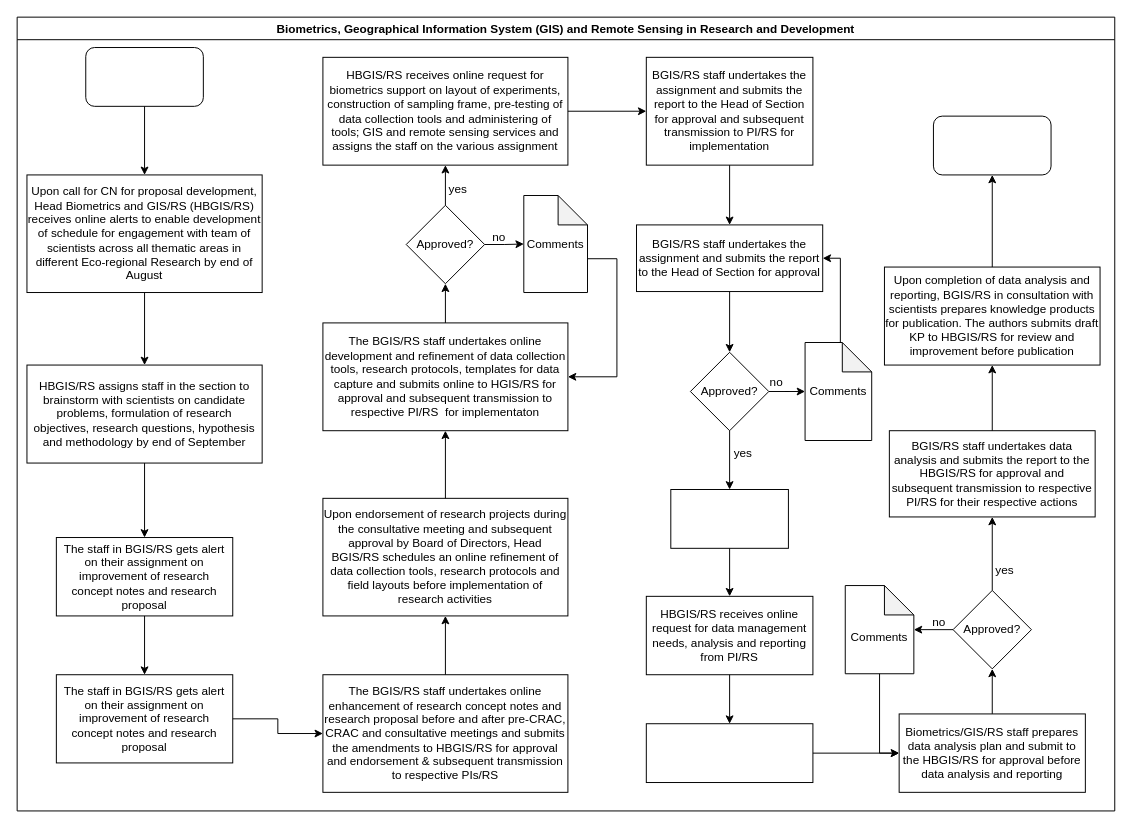
Some shapes in this 1132 by 828 pixel diagram are drawn without their labels. Here are the shapes that lost their labels. From the top down, the centre of each, then its label:
pixel 144 76: Start
pixel 991 145: End
pixel 729 518: HBGIS/RS forwards to PI/RS
pixel 729 753: HBGIS/RS assigns staff to undertake data management needs and analysis
